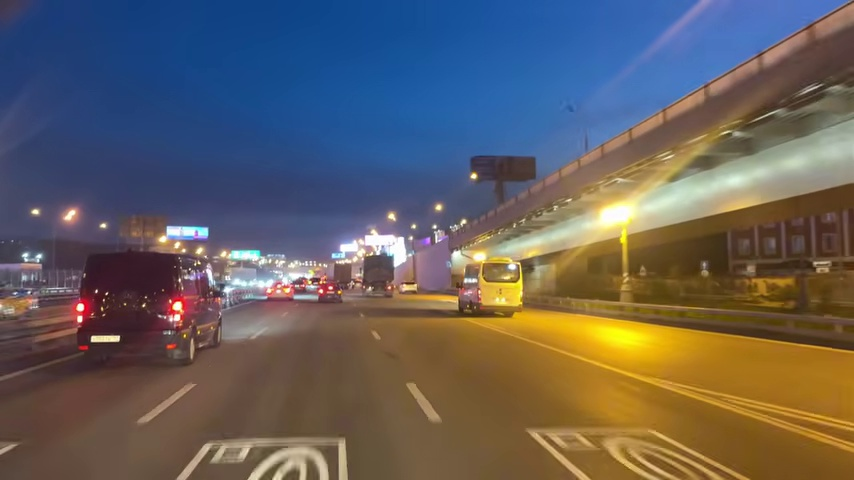acesa: (596, 203, 630, 232), (60, 205, 80, 226), (28, 205, 44, 221), (468, 168, 482, 184), (431, 200, 446, 214), (385, 209, 398, 223)
